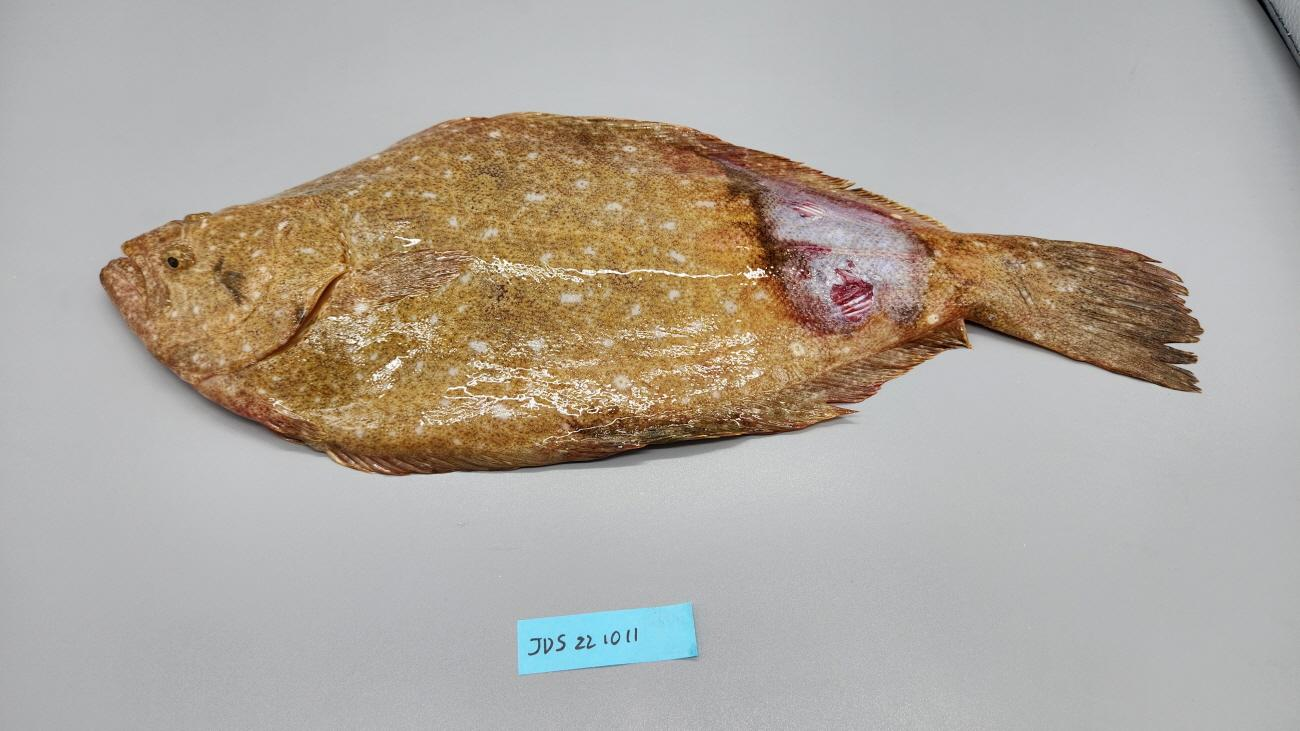VIDYU: (720, 165, 935, 343)
VIFCH: (1064, 240, 1200, 380)
VIOUY: (85, 110, 1213, 479)
